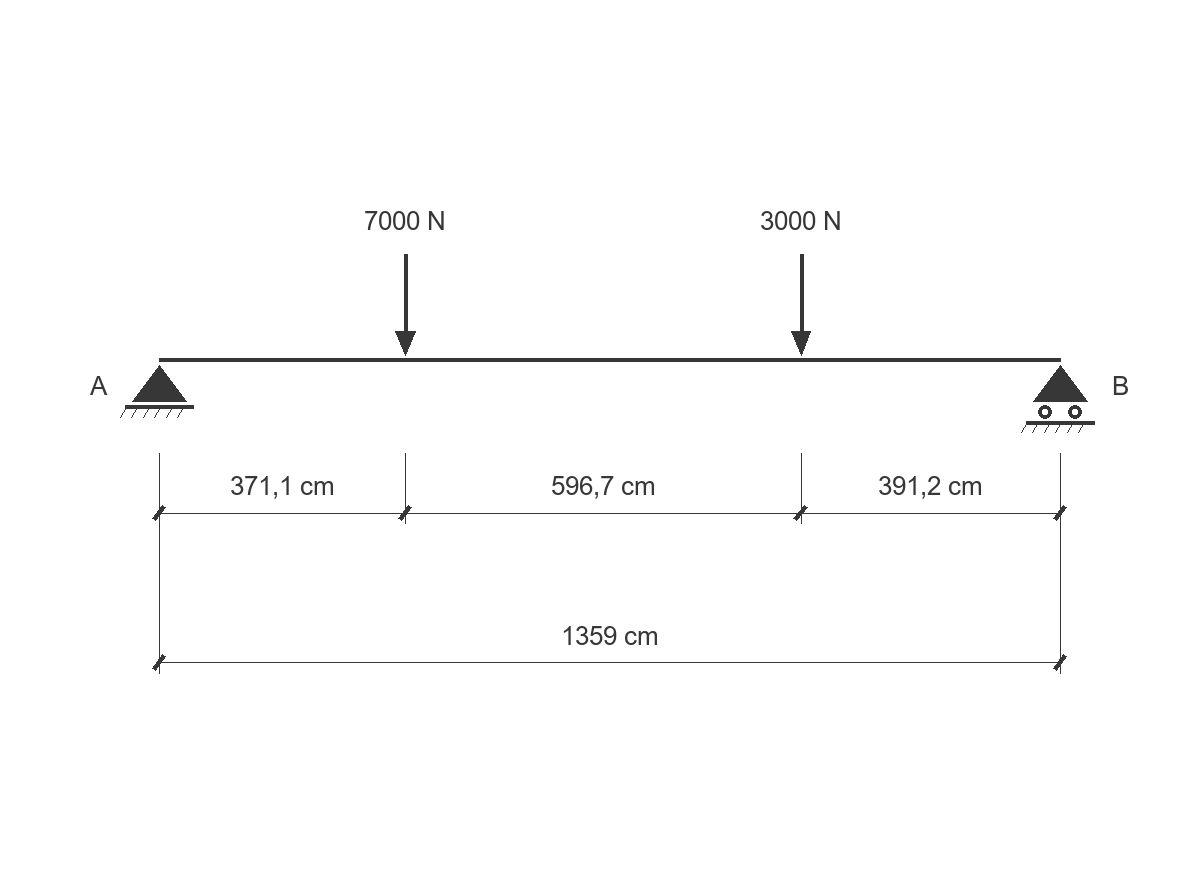pin_support: (120, 365, 194, 418)
point_load: (395, 254, 416, 356), (791, 254, 811, 356)
roller_support: (1021, 365, 1095, 433)
